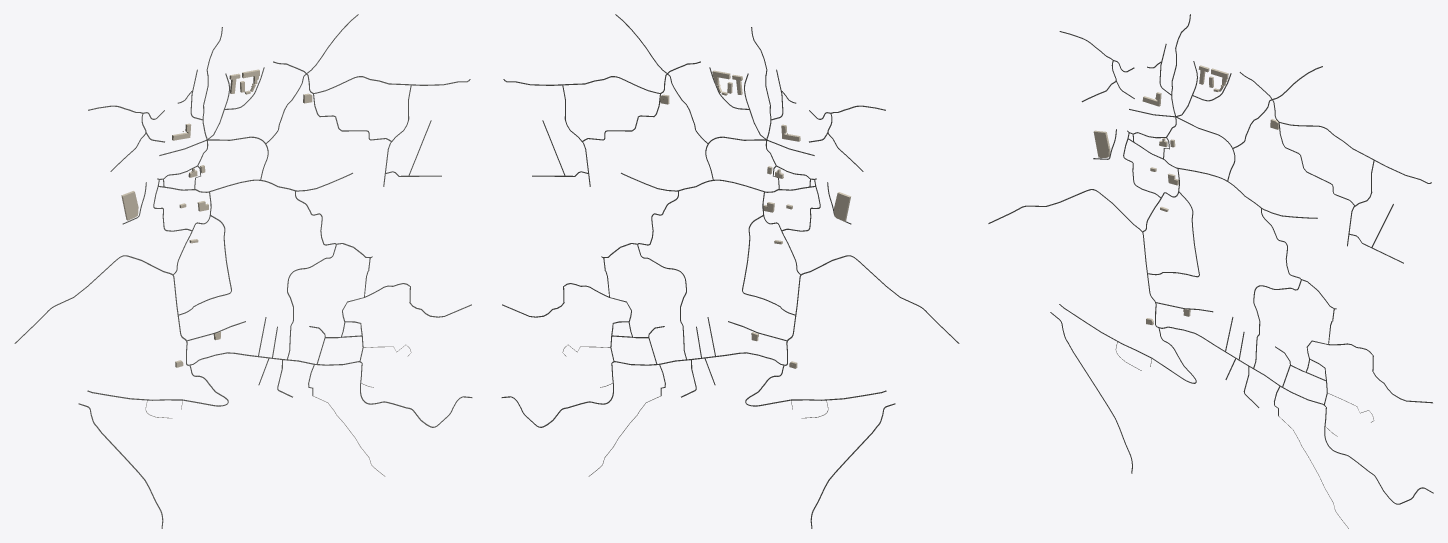
The model's file is historic-palestine-09_29_3507_3236.glb.
3 views of the same model, side by side, from view 1: azimuth 30°, elevation 25°; view 2: azimuth 150°, elevation 25°; view 3: azimuth 330°, elevation 25° (orthographic). The views are drawn at different scales.
Visible parts, largest first — view 1: Road .023; view 2: Road .023; view 3: Road .023.
Boxes of the visible parts, <box> form: Road .023: <box>14,255,472,427</box>; Road .023: <box>501,255,959,427</box>; Road .023: <box>988,189,1433,504</box>.
Bounding box in the file's own units: 1368 × 1398 × 8.7.
